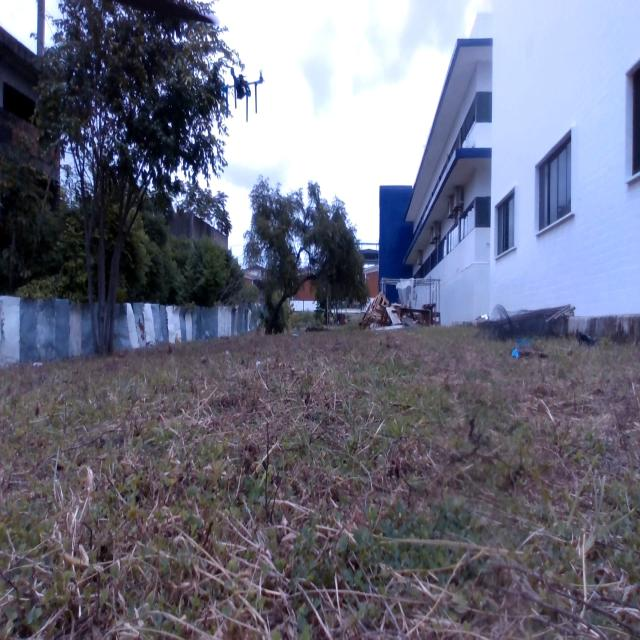-uav-: (207, 47, 271, 132)
